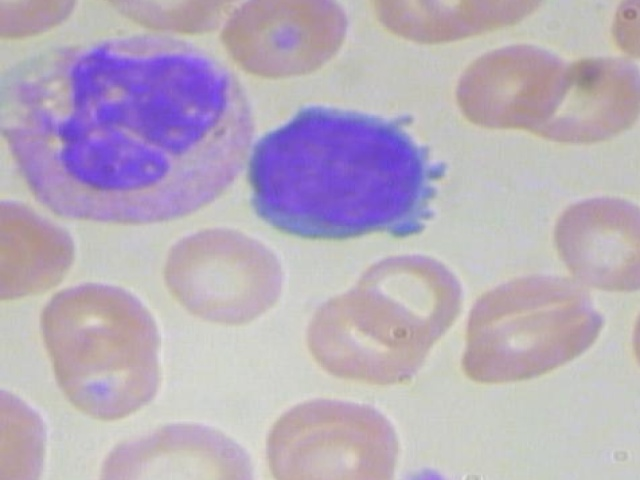Platelets: (639, 391, 640, 427)
RBC: (333, 235, 471, 348), (152, 222, 295, 331), (31, 276, 173, 367), (257, 393, 405, 480), (450, 37, 576, 136), (215, 0, 357, 83), (82, 419, 261, 480), (540, 185, 640, 293), (0, 371, 57, 480), (0, 195, 44, 308)
WBC: (0, 28, 264, 237), (238, 98, 447, 249)
